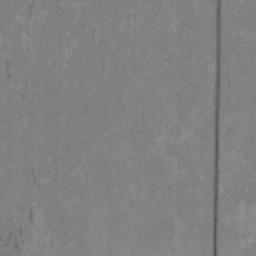Scratches: (212, 0, 221, 256)
